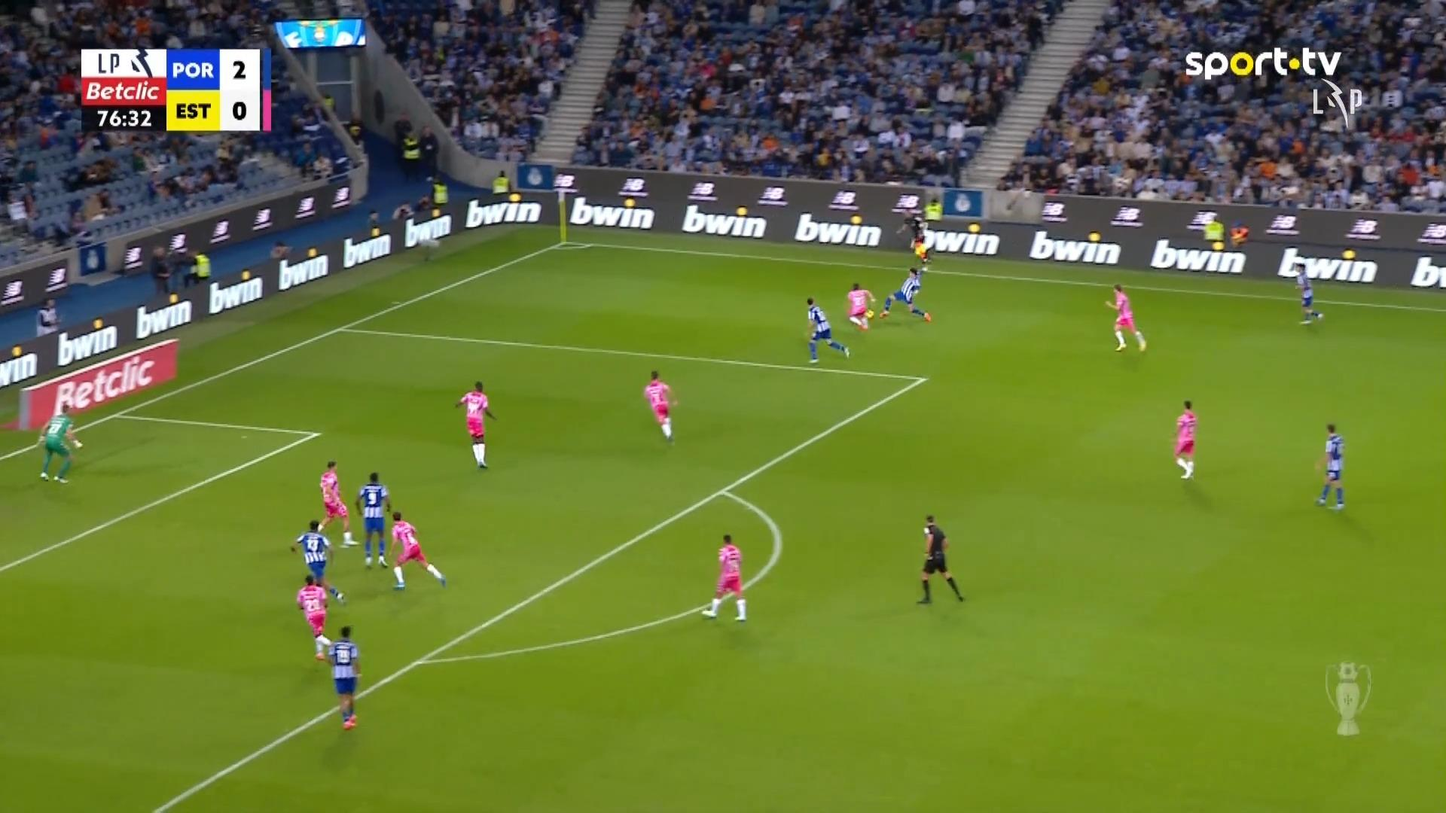ball: (1314, 458, 1322, 470), (865, 309, 874, 319)
goalkeeper: (36, 401, 83, 483)
player: (388, 510, 447, 589), (290, 519, 344, 603), (700, 532, 747, 621), (325, 625, 362, 729), (454, 380, 496, 469), (317, 459, 358, 547), (355, 470, 391, 568), (296, 573, 332, 659), (805, 297, 850, 364), (878, 266, 932, 321), (1104, 282, 1146, 352), (1314, 422, 1345, 510), (643, 369, 677, 443), (1173, 399, 1197, 478), (1292, 263, 1323, 324), (846, 282, 875, 330)
referee: (915, 513, 964, 604), (897, 208, 935, 272)
